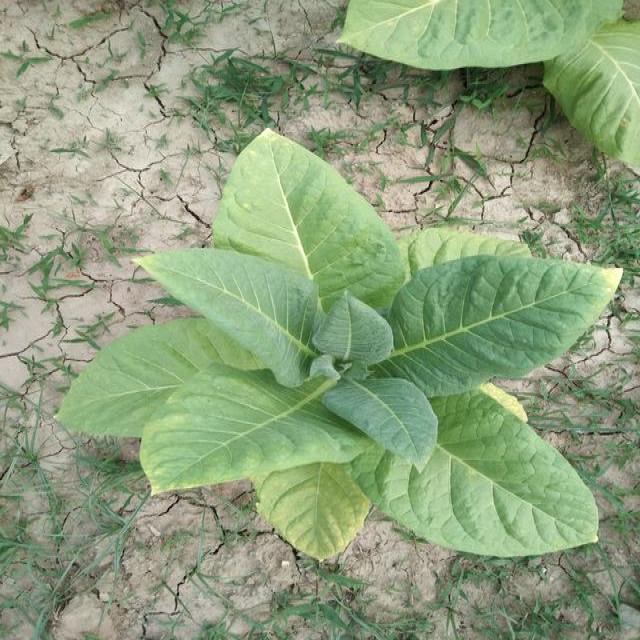crop: (76, 147, 612, 569), (350, 0, 640, 175)
